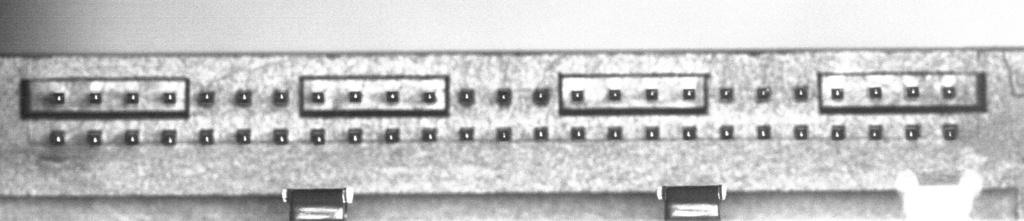pin_ok: (941, 123, 959, 141), (235, 88, 253, 105), (533, 87, 551, 104), (160, 129, 177, 145), (458, 88, 475, 104), (496, 88, 512, 105), (197, 90, 215, 105), (198, 128, 214, 144), (905, 124, 921, 140), (50, 129, 66, 145), (272, 89, 288, 105), (347, 128, 363, 143), (384, 127, 400, 142), (310, 128, 325, 144), (868, 124, 883, 140), (86, 130, 102, 145), (793, 85, 809, 100), (273, 128, 288, 143), (830, 125, 845, 140), (125, 129, 140, 144), (236, 128, 251, 143), (756, 86, 771, 101), (719, 86, 734, 101), (496, 127, 512, 141), (570, 126, 586, 140), (458, 127, 474, 141), (533, 126, 548, 140), (756, 125, 771, 139), (607, 126, 622, 140), (682, 126, 697, 140), (719, 125, 734, 139), (644, 126, 659, 140), (422, 127, 437, 141), (794, 125, 808, 139), (942, 85, 956, 99), (162, 91, 177, 104), (607, 88, 622, 101), (310, 90, 325, 103), (868, 86, 883, 99), (830, 87, 845, 100), (905, 85, 920, 98), (645, 88, 659, 101), (423, 90, 437, 103), (385, 90, 399, 103), (570, 89, 584, 102), (88, 91, 102, 104), (50, 91, 65, 103), (683, 88, 696, 101), (348, 90, 362, 102), (126, 92, 139, 104)
